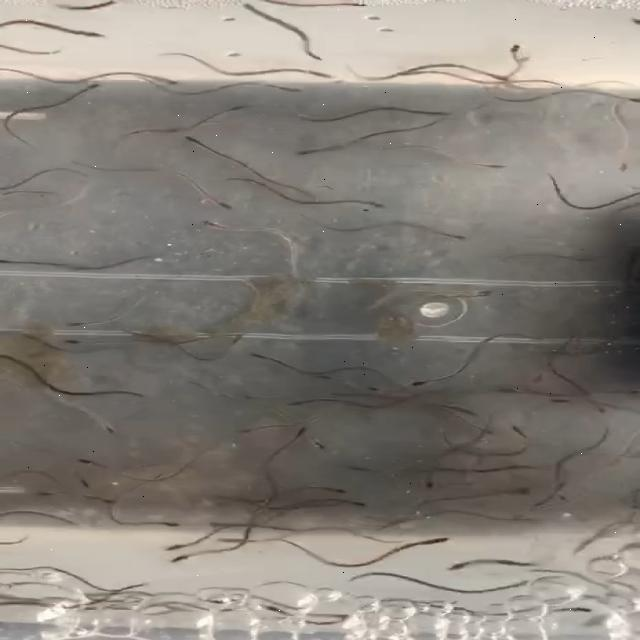active_glass_eel: (440, 222, 484, 254), (172, 130, 228, 154), (60, 22, 110, 42), (287, 136, 328, 160), (192, 218, 244, 236), (83, 418, 129, 438), (284, 47, 338, 63), (24, 486, 72, 504), (308, 368, 346, 390), (142, 70, 182, 90), (230, 418, 270, 438), (75, 451, 115, 471), (414, 534, 458, 552), (493, 36, 525, 60), (540, 391, 578, 411), (158, 554, 204, 570), (200, 198, 243, 215), (358, 192, 391, 214), (138, 513, 182, 529), (44, 338, 98, 351), (298, 68, 348, 82), (220, 98, 258, 116), (338, 498, 376, 516), (286, 397, 331, 412), (400, 372, 433, 392), (271, 81, 309, 98), (242, 346, 274, 366), (154, 536, 194, 552), (474, 156, 516, 171), (76, 80, 120, 94), (444, 401, 478, 419), (411, 475, 449, 491), (46, 318, 96, 330), (82, 491, 122, 506), (214, 328, 247, 346), (429, 105, 457, 126), (292, 422, 328, 438), (490, 381, 528, 396), (75, 472, 113, 487), (337, 0, 371, 16), (517, 479, 540, 501), (446, 558, 474, 574), (324, 484, 352, 498), (508, 421, 528, 435)
